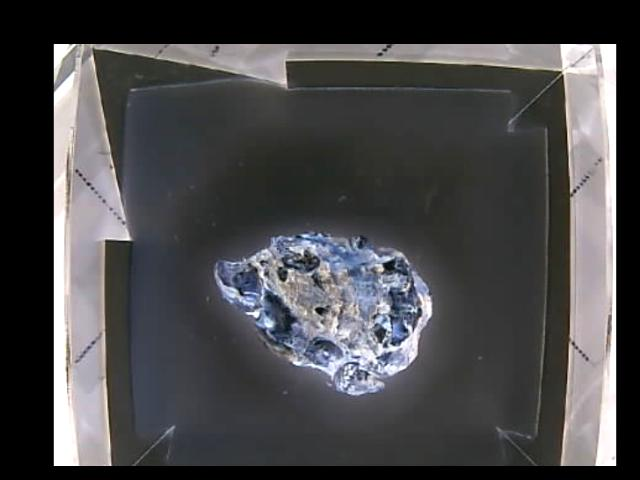Shell: (216, 233, 431, 395)
